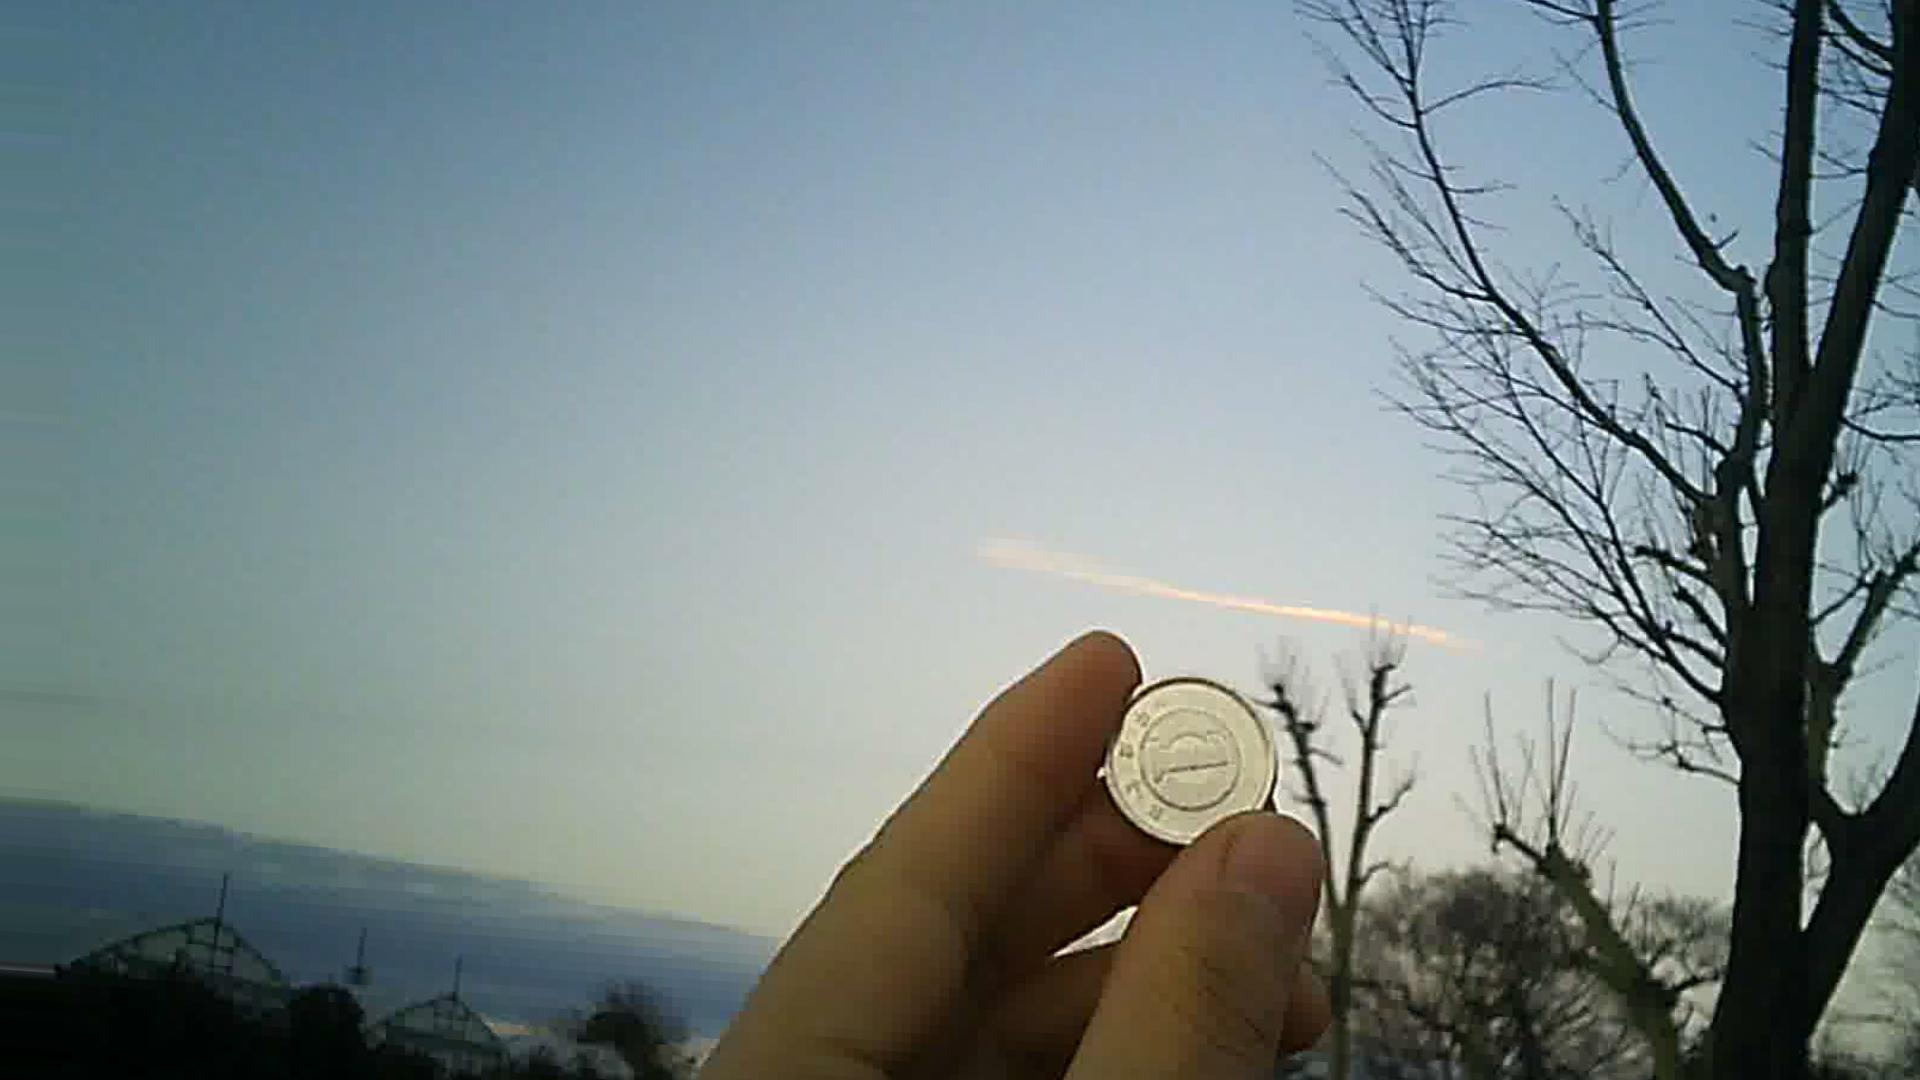1 Yen: (1101, 669, 1274, 843)
